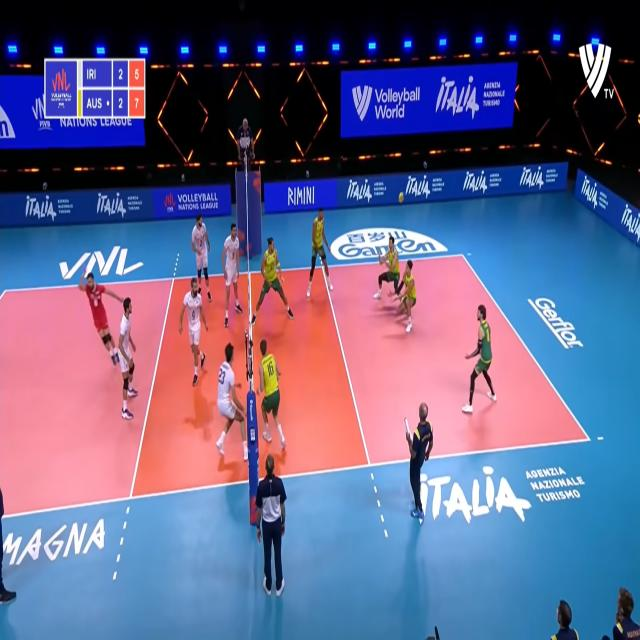player: (80, 265, 122, 374), (464, 300, 497, 419), (179, 276, 214, 386), (217, 343, 250, 459), (251, 235, 296, 319), (253, 340, 286, 448), (116, 297, 142, 419), (218, 220, 243, 324), (190, 209, 215, 310), (307, 212, 333, 299), (375, 238, 403, 304)
